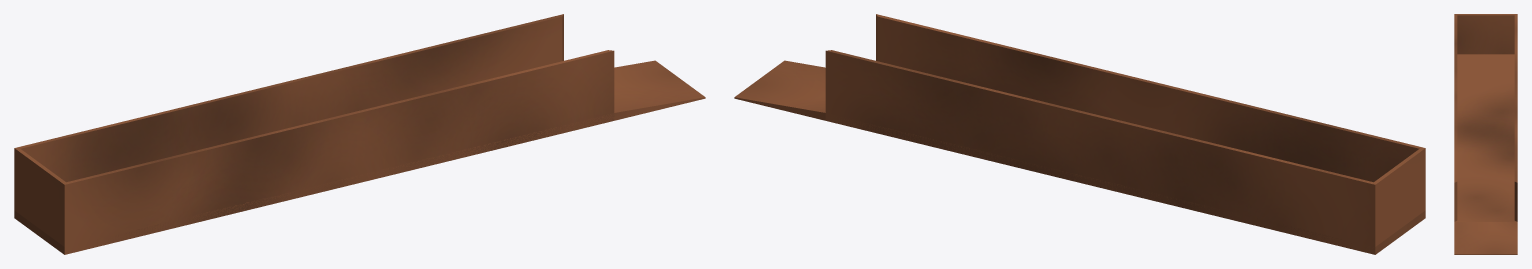
Rendered from OpenContainer.fbx.
3 views of the same model, side by side, from view 1: azimuth 30°, elevation 25°; view 2: azimuth 150°, elevation 25°; view 3: azimuth 270°, elevation 25° (orthographic). The views are drawn at different scales.
Parts seen in each view (by area): view 1: Cube; view 2: Cube; view 3: Cube.
Part boxes in pixels (x1,y1,x2,y2): Cube: (14, 14, 705, 254); Cube: (734, 14, 1425, 254); Cube: (1454, 14, 1517, 254).
Size of the model in its own units: 1399 by 146 by 190.
Materials: 1 (1 with a texture image).
